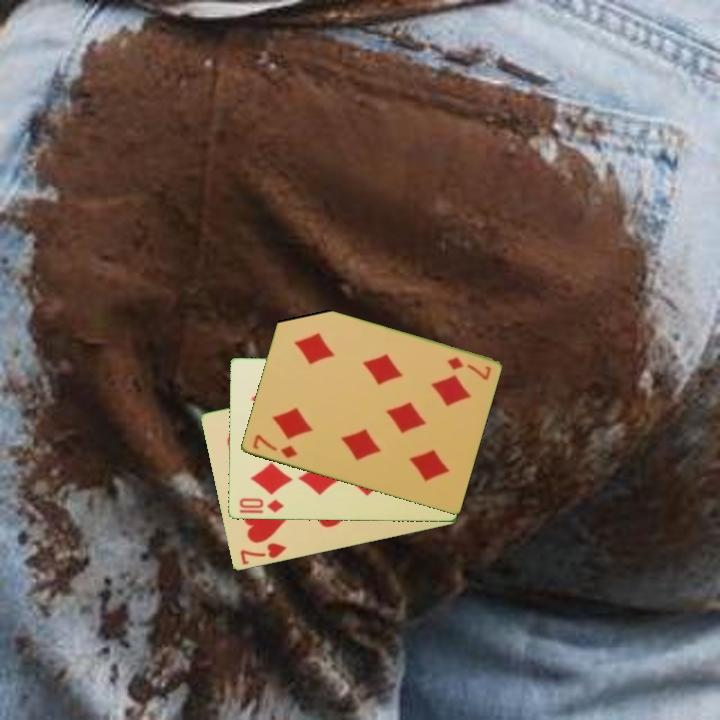10d: (236, 495, 286, 516)
7d: (249, 431, 300, 461), (443, 353, 494, 383)
7h: (236, 539, 289, 568)
